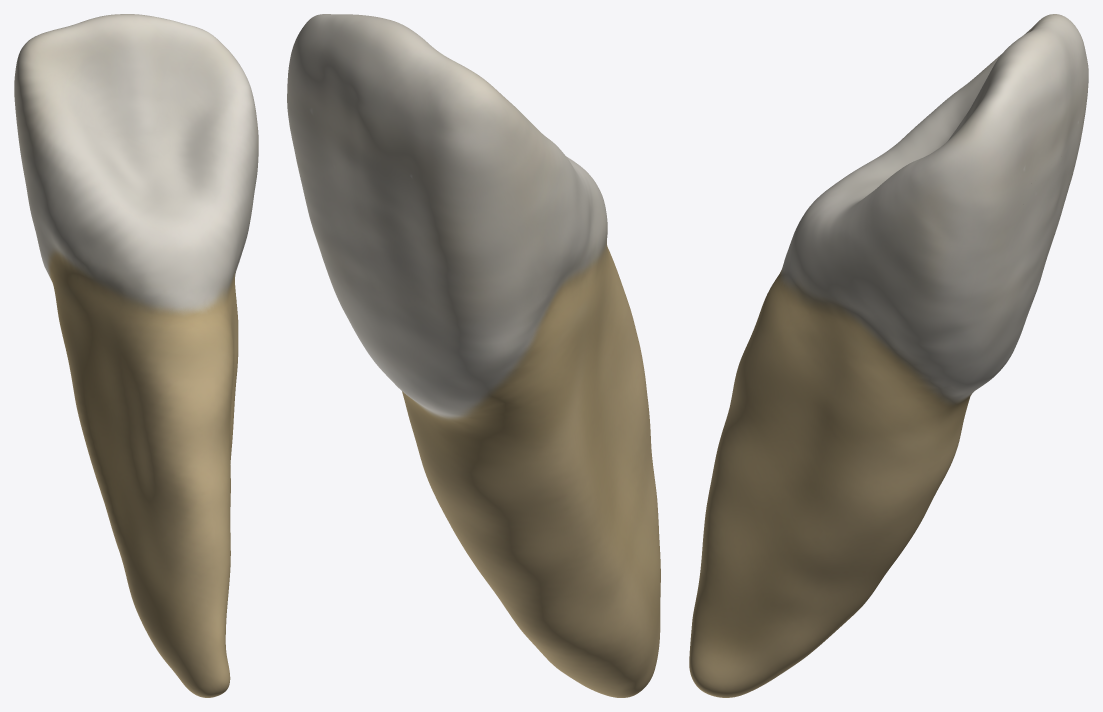
The model's file is Maxillary_Lateral_Incisor_rugved.glb.
3 views of the same model, side by side, from view 1: azimuth 30°, elevation 25°; view 2: azimuth 150°, elevation 25°; view 3: azimuth 270°, elevation 25° (orthographic). The views are drawn at different scales.
Parts seen in each view (by area): view 1: Object_2; view 2: Object_2; view 3: Object_2.
Part boxes in pixels (box(x1,y1,x2,y2)): Object_2: box(14, 14, 258, 697); Object_2: box(287, 14, 660, 697); Object_2: box(689, 14, 1088, 697).
Size of the model in its own units: 0.3103 by 0.8416 by 0.4483.
Materials: 1 (1 with a texture image).
